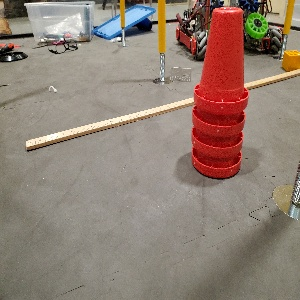Red_4: (192, 9, 248, 177)
